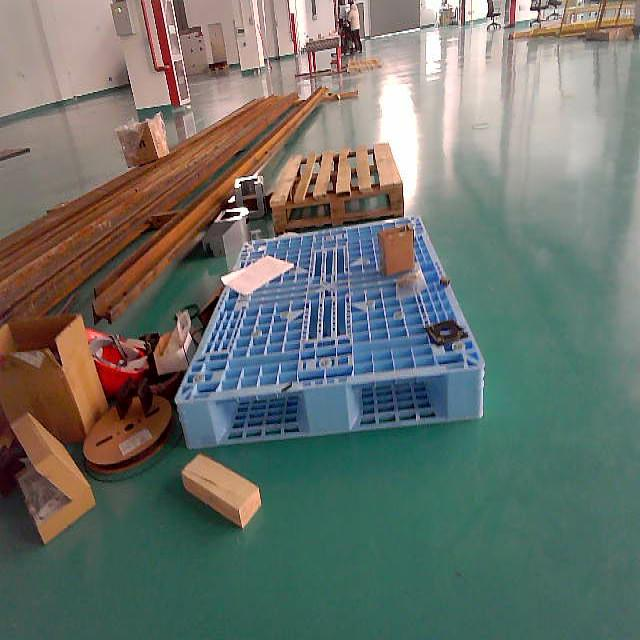euro: (268, 143, 409, 237)
